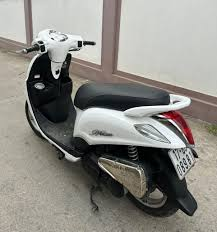Bien-so: (170, 146, 197, 181)
